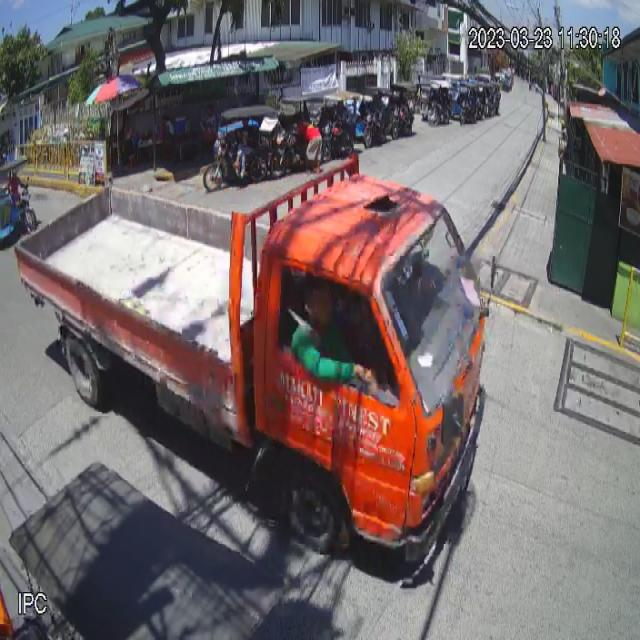Truck: (15, 154, 496, 584)
